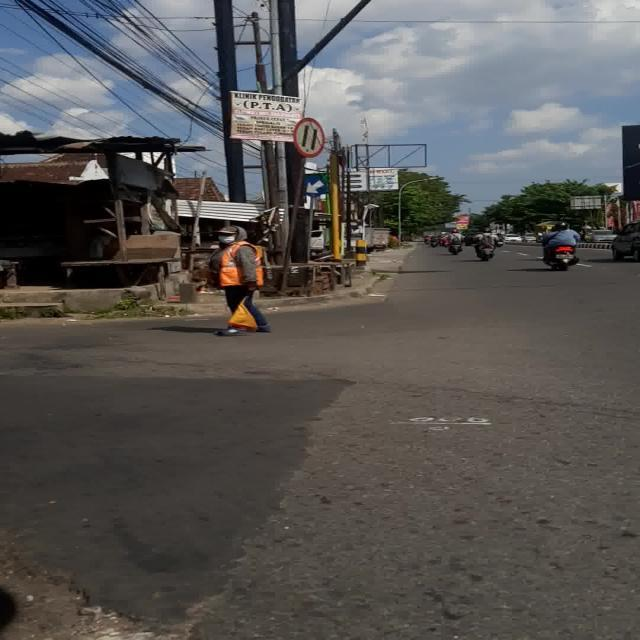Larangan Muatan - 10 ton: (294, 117, 325, 157)
